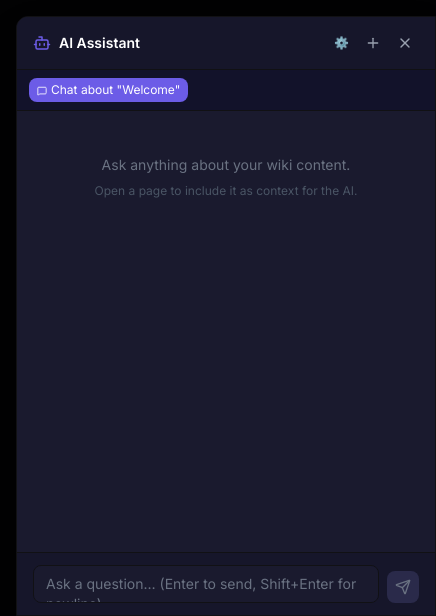
AiAssistant › loading state › disables input and send button while loading
Type "Disable test" into the text box with placeholder "Ask a question… (Enter to send, Shift+Enter for newline)" at (206, 584), box [33,565,379,603]
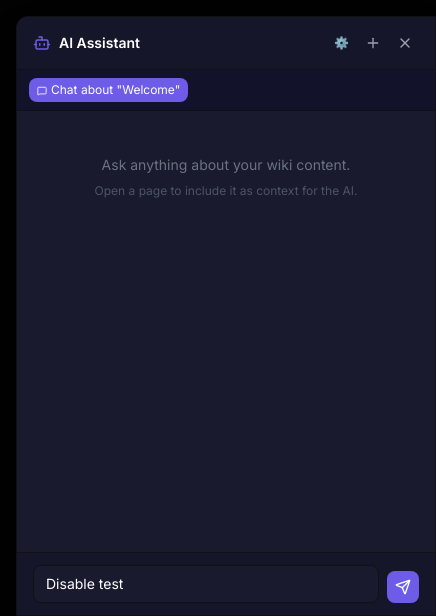
Click the button named "Send message" at (403, 587), box [387,571,419,603]
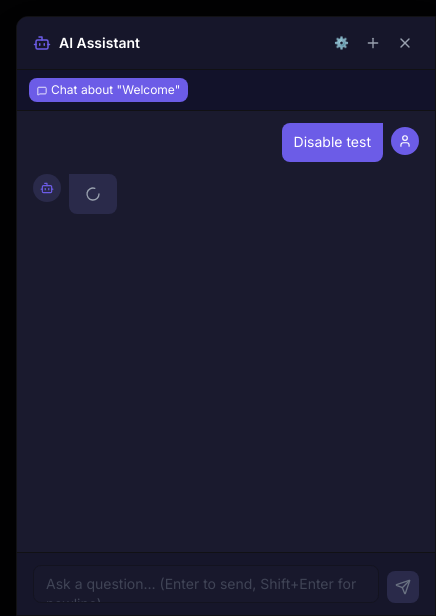
Result: the text box with placeholder "Ask a question… (Enter to send, Shift+Enter for newline)" is disabled at [33,565,379,603]
